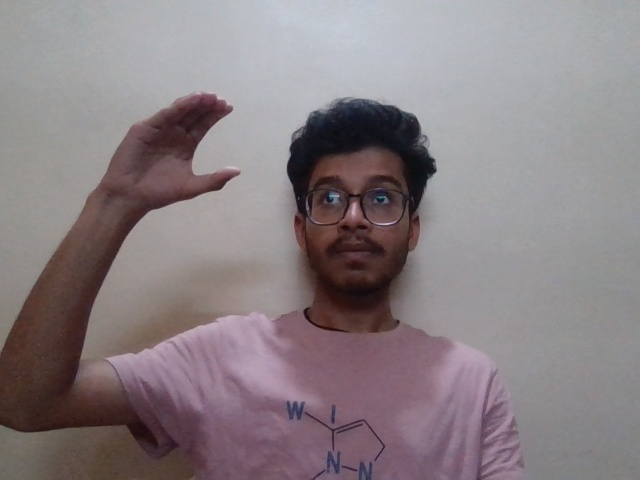C: (95, 81, 254, 216)
